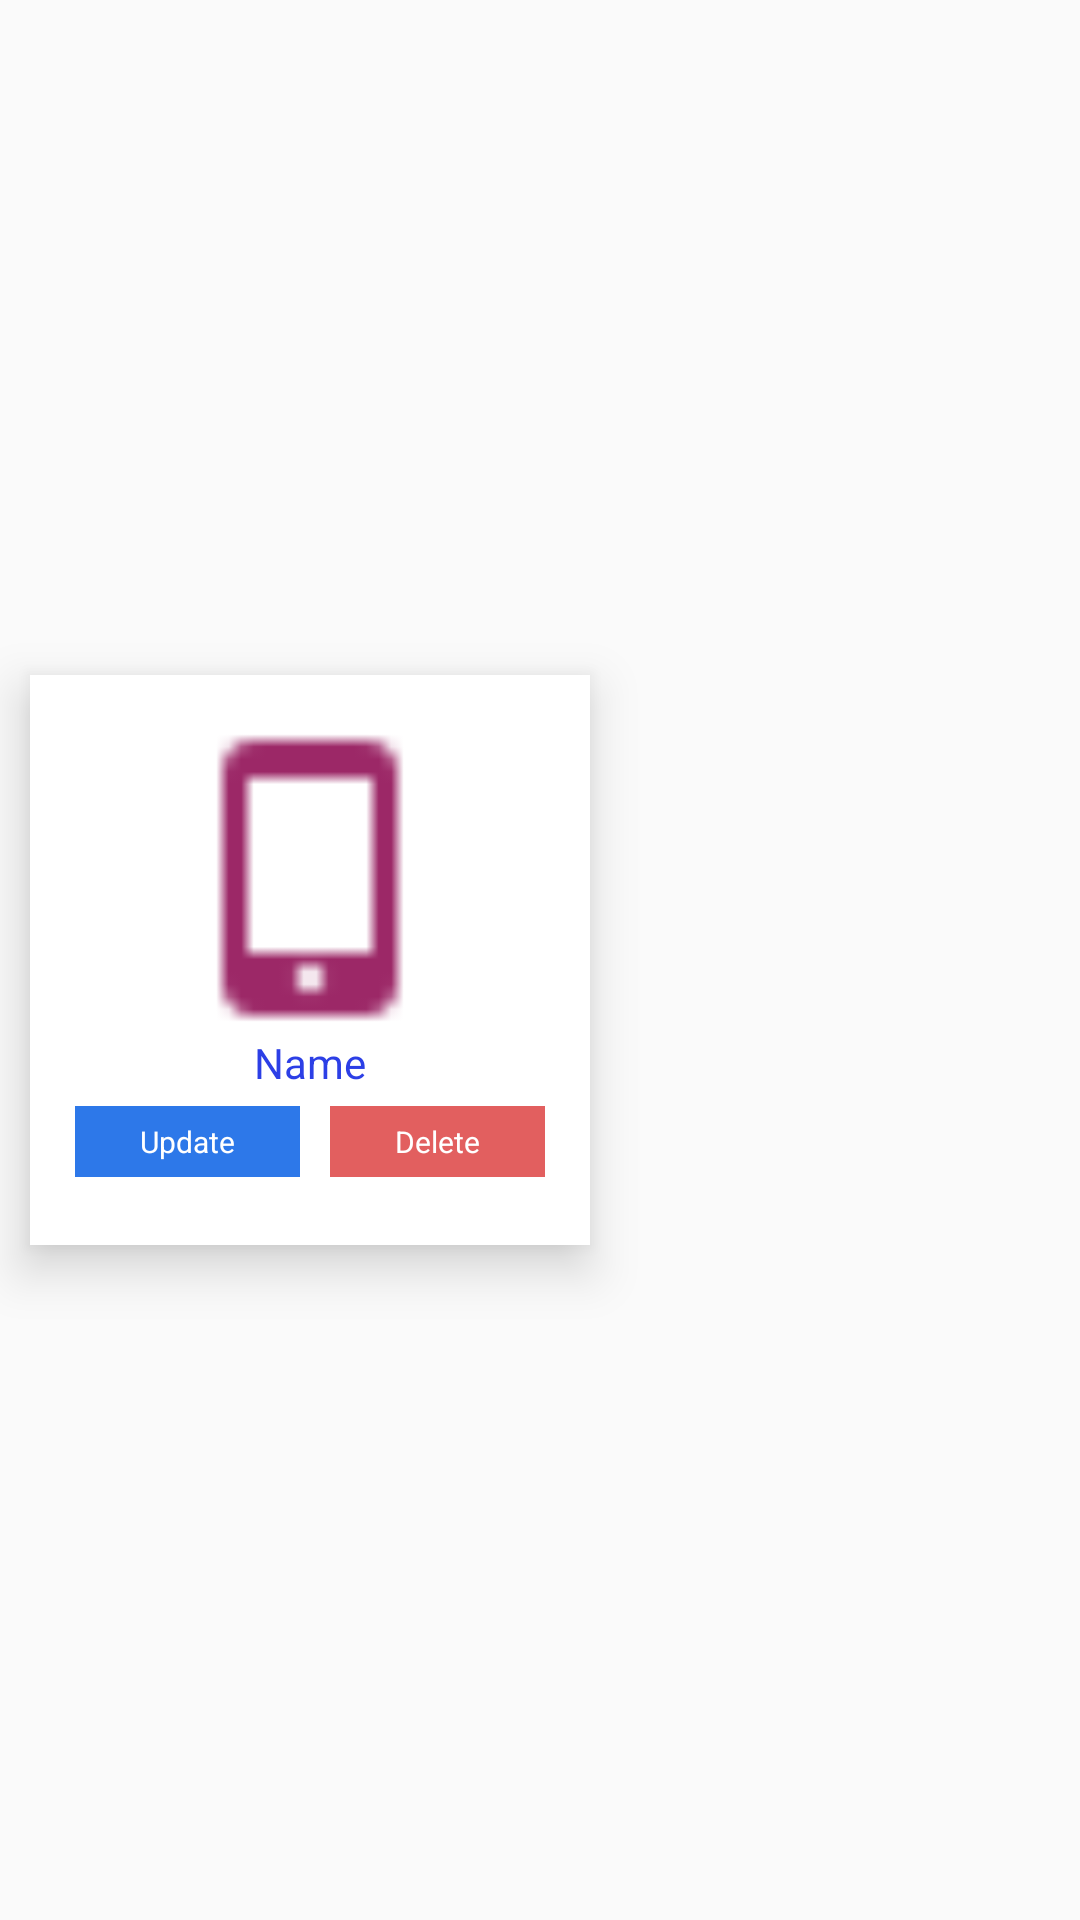

Where to tap for icons on this 1080px x 1920px app screen, as [x,y]:
mobile: [310,878]
